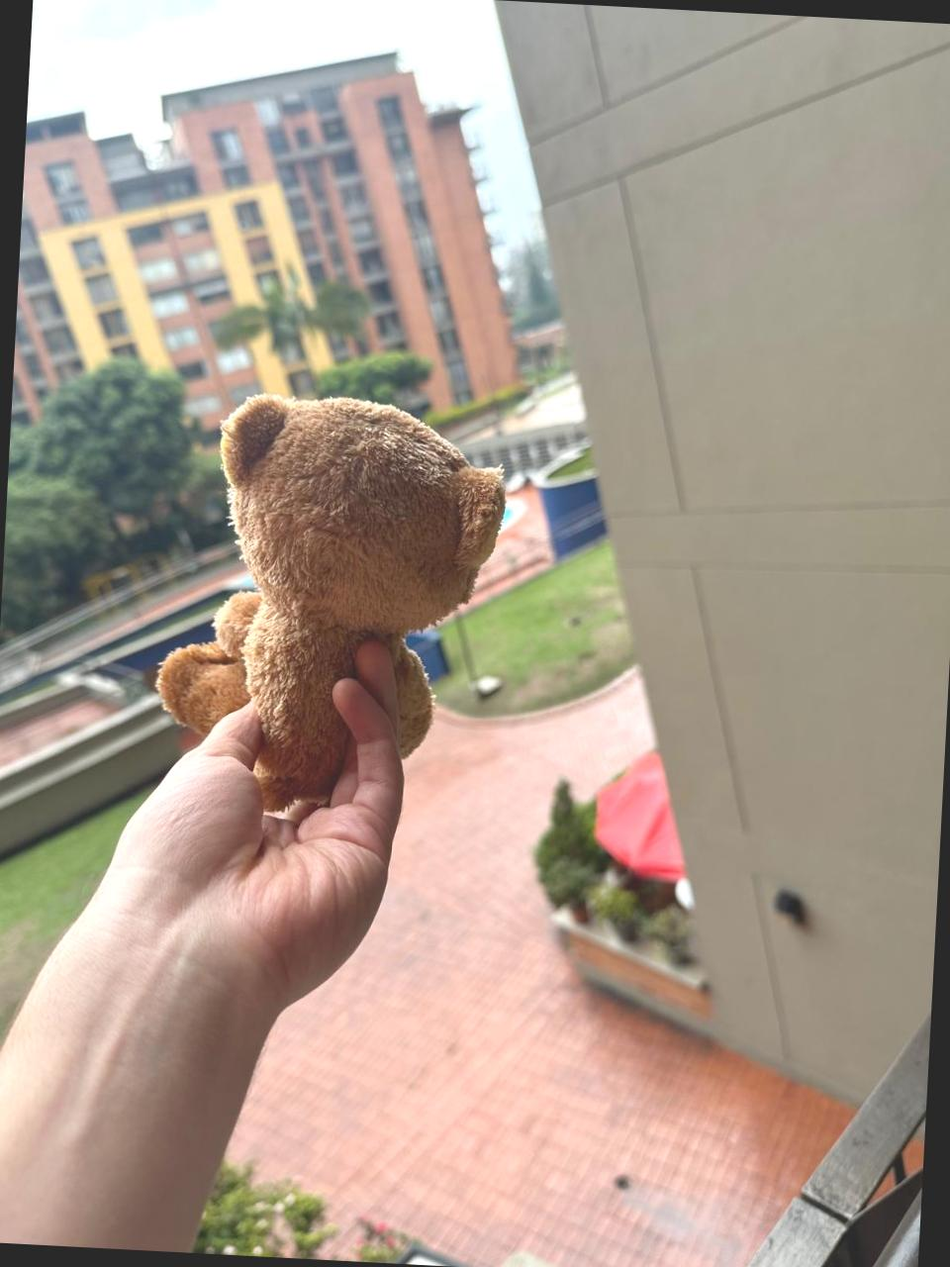peluche_sebastian: (157, 378, 510, 800)
